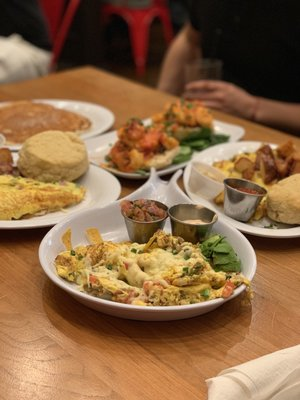soup: (266, 172, 300, 226)
sushi: (40, 203, 256, 323), (183, 141, 299, 211), (120, 198, 170, 244), (168, 203, 218, 244)
